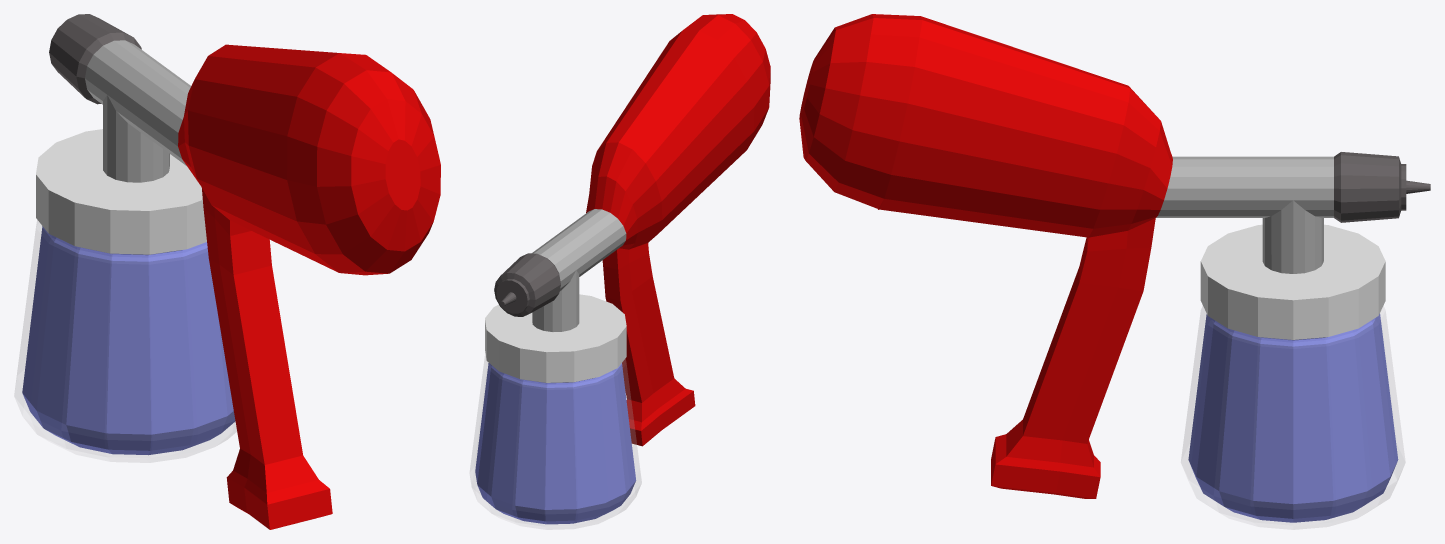
The model's file is Spray-Gun.fbx.
3 renders of one model, left to right at view 1: azimuth 30°, elevation 25°; view 2: azimuth 150°, elevation 25°; view 3: azimuth 270°, elevation 25°, orthographic. The views are drawn at different scales.
Parts seen in each view (by area): view 1: Spray-Gun, Liquid, Glass; view 2: Spray-Gun, Liquid, Glass; view 3: Spray-Gun, Liquid, Glass.
Part boxes in pixels (left/top/right/bottom): Spray-Gun: left=36, top=14, right=440, bottom=529; Liquid: left=22, top=226, right=235, bottom=455; Glass: left=14, top=220, right=236, bottom=462; Spray-Gun: left=485, top=14, right=770, bottom=446; Liquid: left=475, top=363, right=636, bottom=524; Glass: left=469, top=355, right=641, bottom=529; Spray-Gun: left=799, top=14, right=1430, bottom=498; Liquid: left=1188, top=313, right=1398, bottom=522; Glass: left=1181, top=306, right=1405, bottom=529.
Size of the model in its own units: 20 by 47.17 by 56.11.
